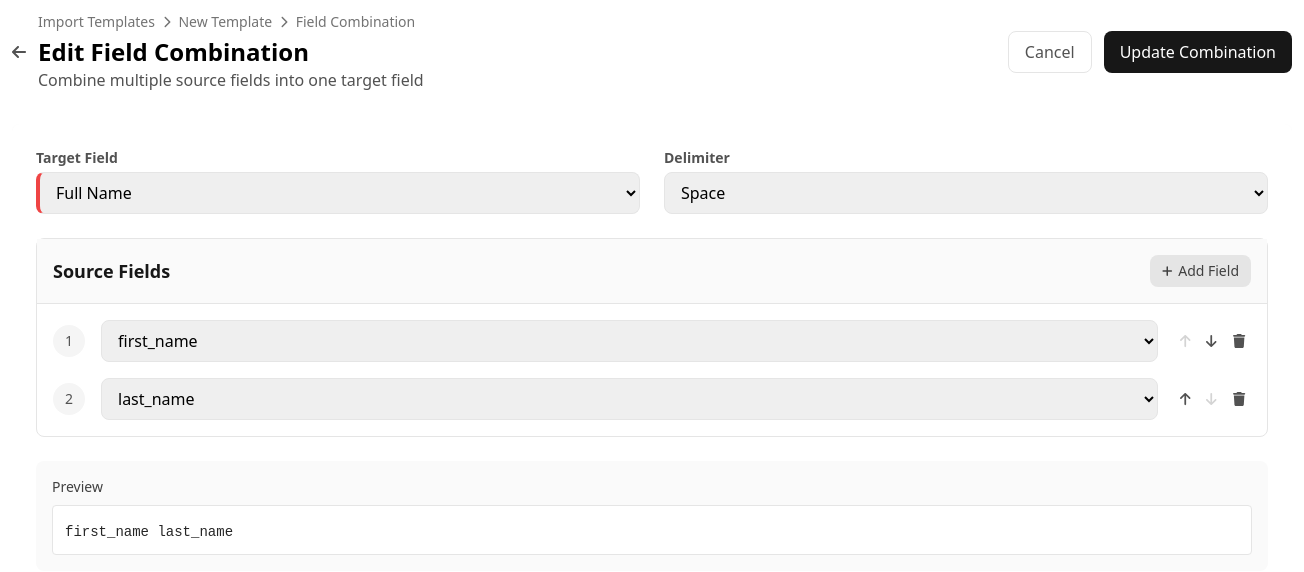
Test: FieldCombinationEditor › Source Field Management › should allow removing source fields
Remove one field
Click the 1st button titled "remove field" at {"x": 1239, "y": 341}, box [1227,328,1251,354]
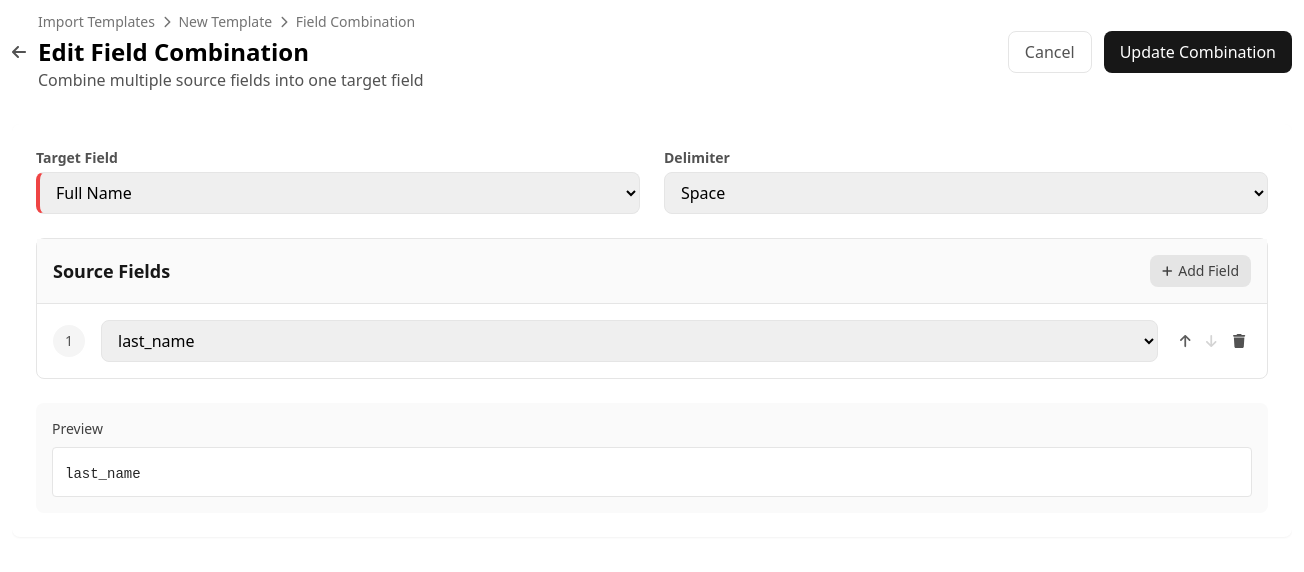
Result: the number of buttons titled "remove field" is 1 at [1227,328,1251,354]
